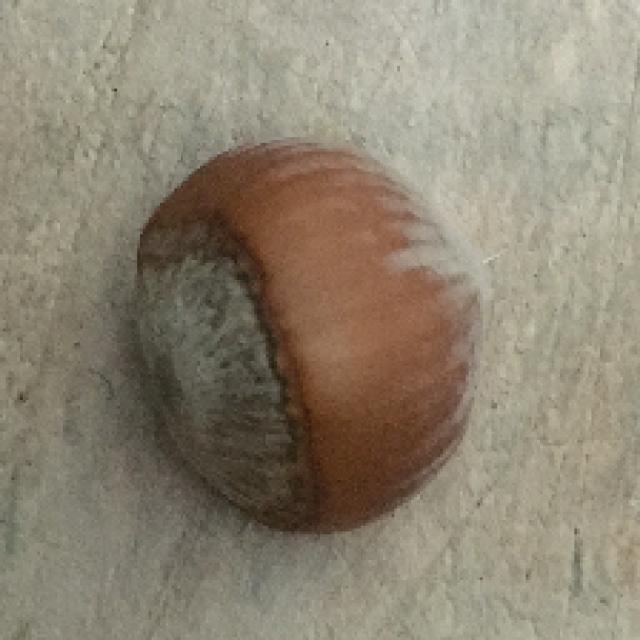qualityHazelnut: (110, 130, 491, 533)
